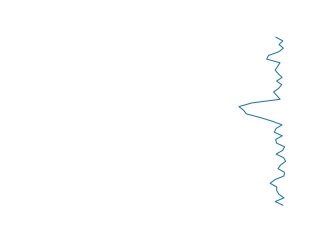interdistributaryEstuary: (234, 36, 290, 208)
